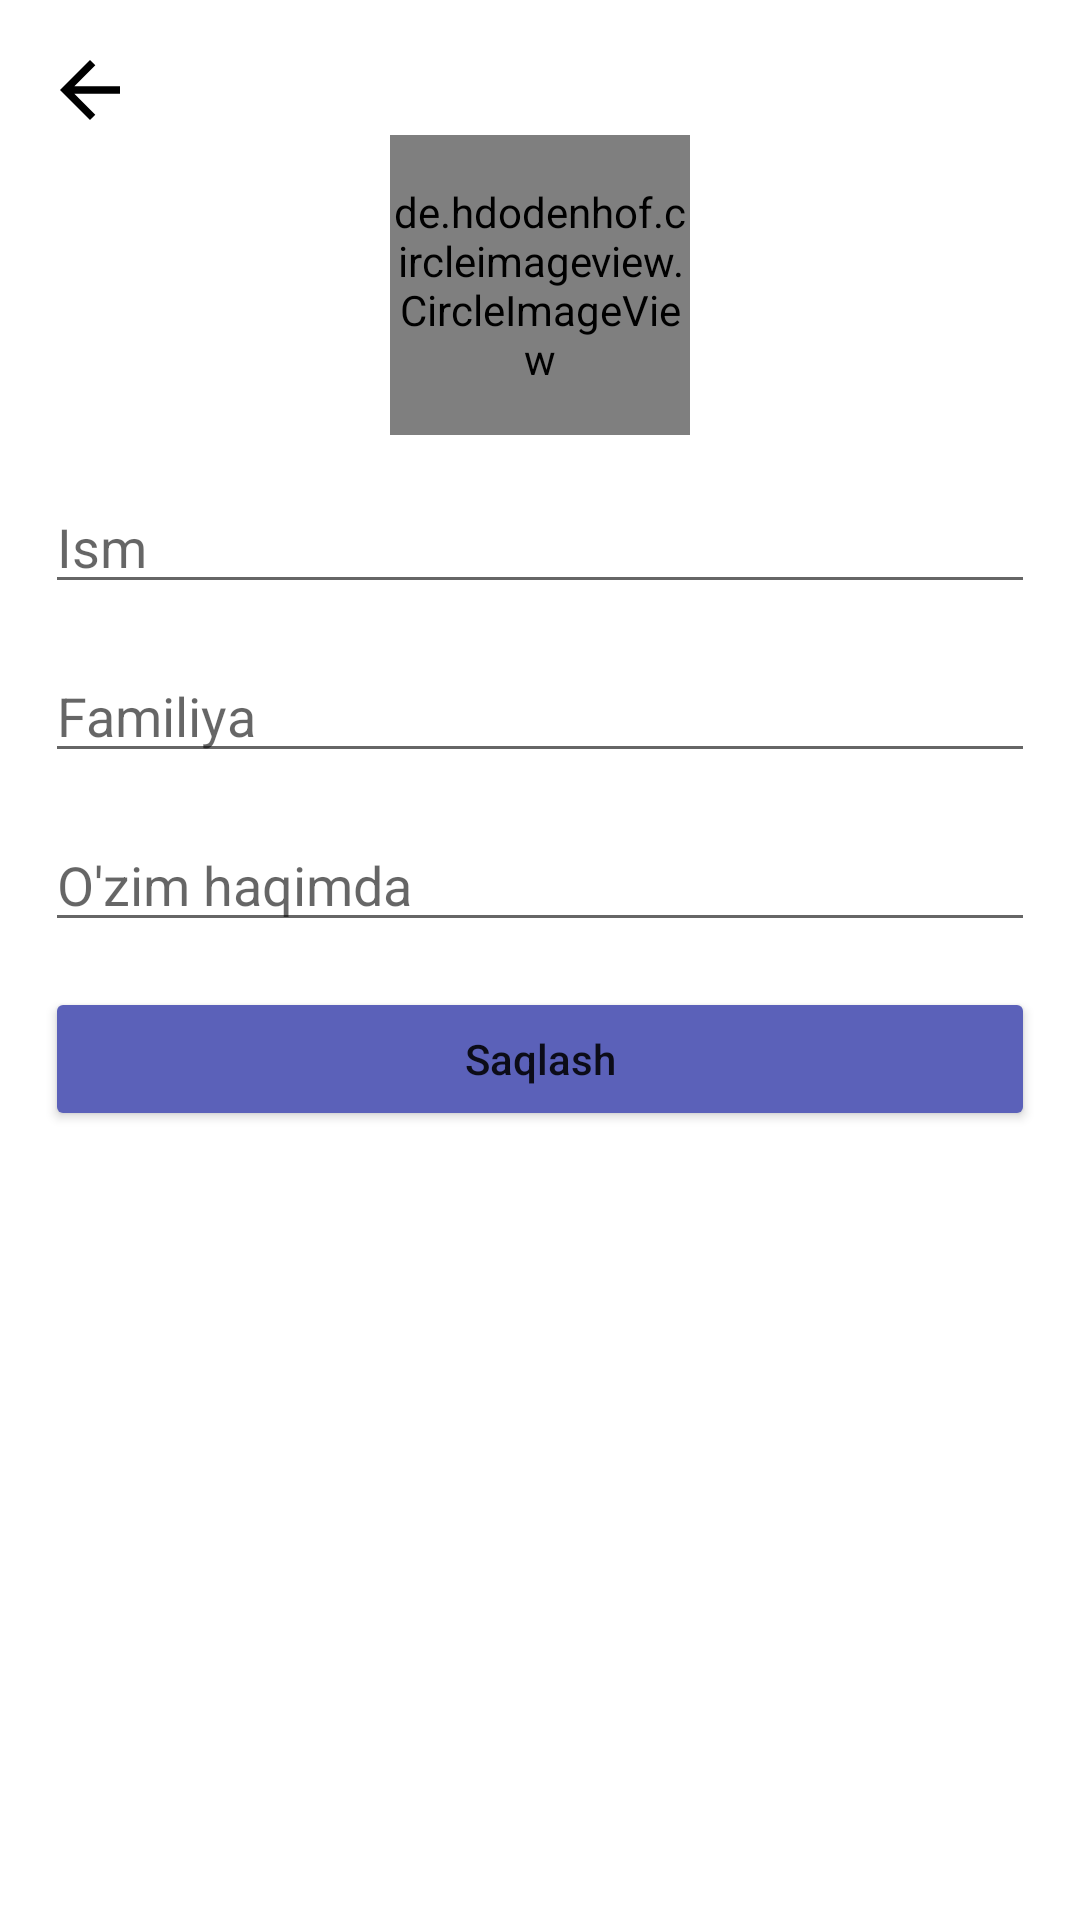

Where to tap for icons on this 1080*1920 app screen, as (x=x, y=y):
arrow back: (x=90, y=90)
